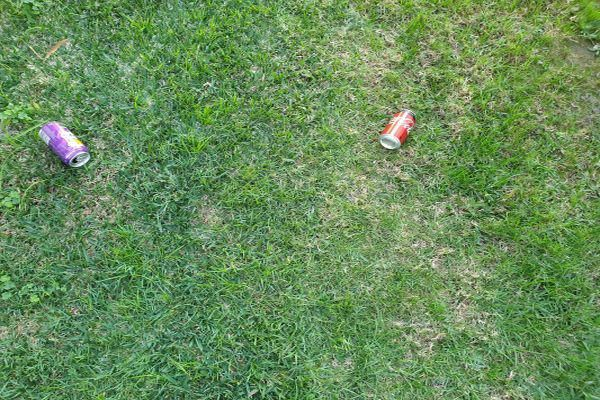Plastic Bottle: (37, 120, 91, 168), (378, 108, 417, 150)
